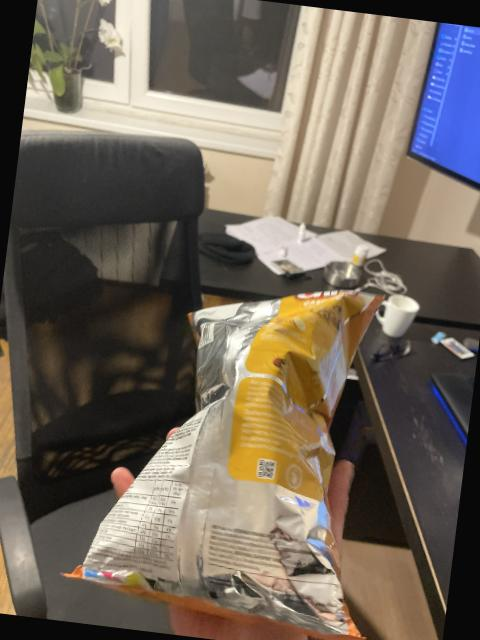Chio Cascaval 125g: (54, 259, 415, 640)
